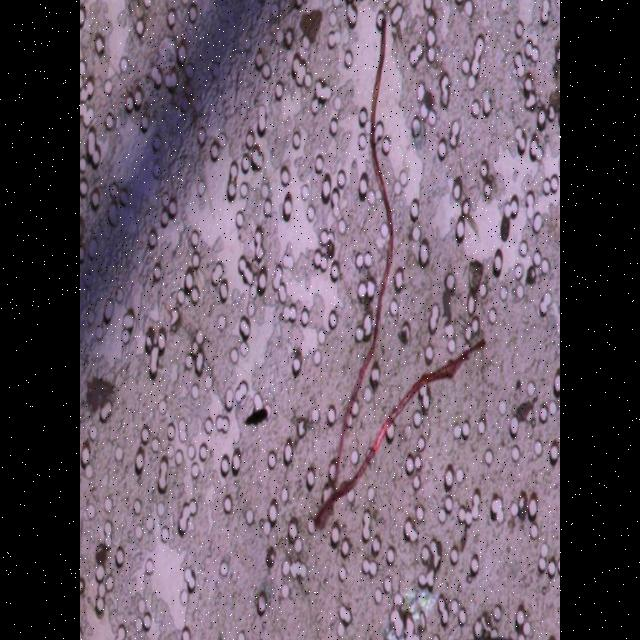Fibre: (310, 1, 492, 536)
